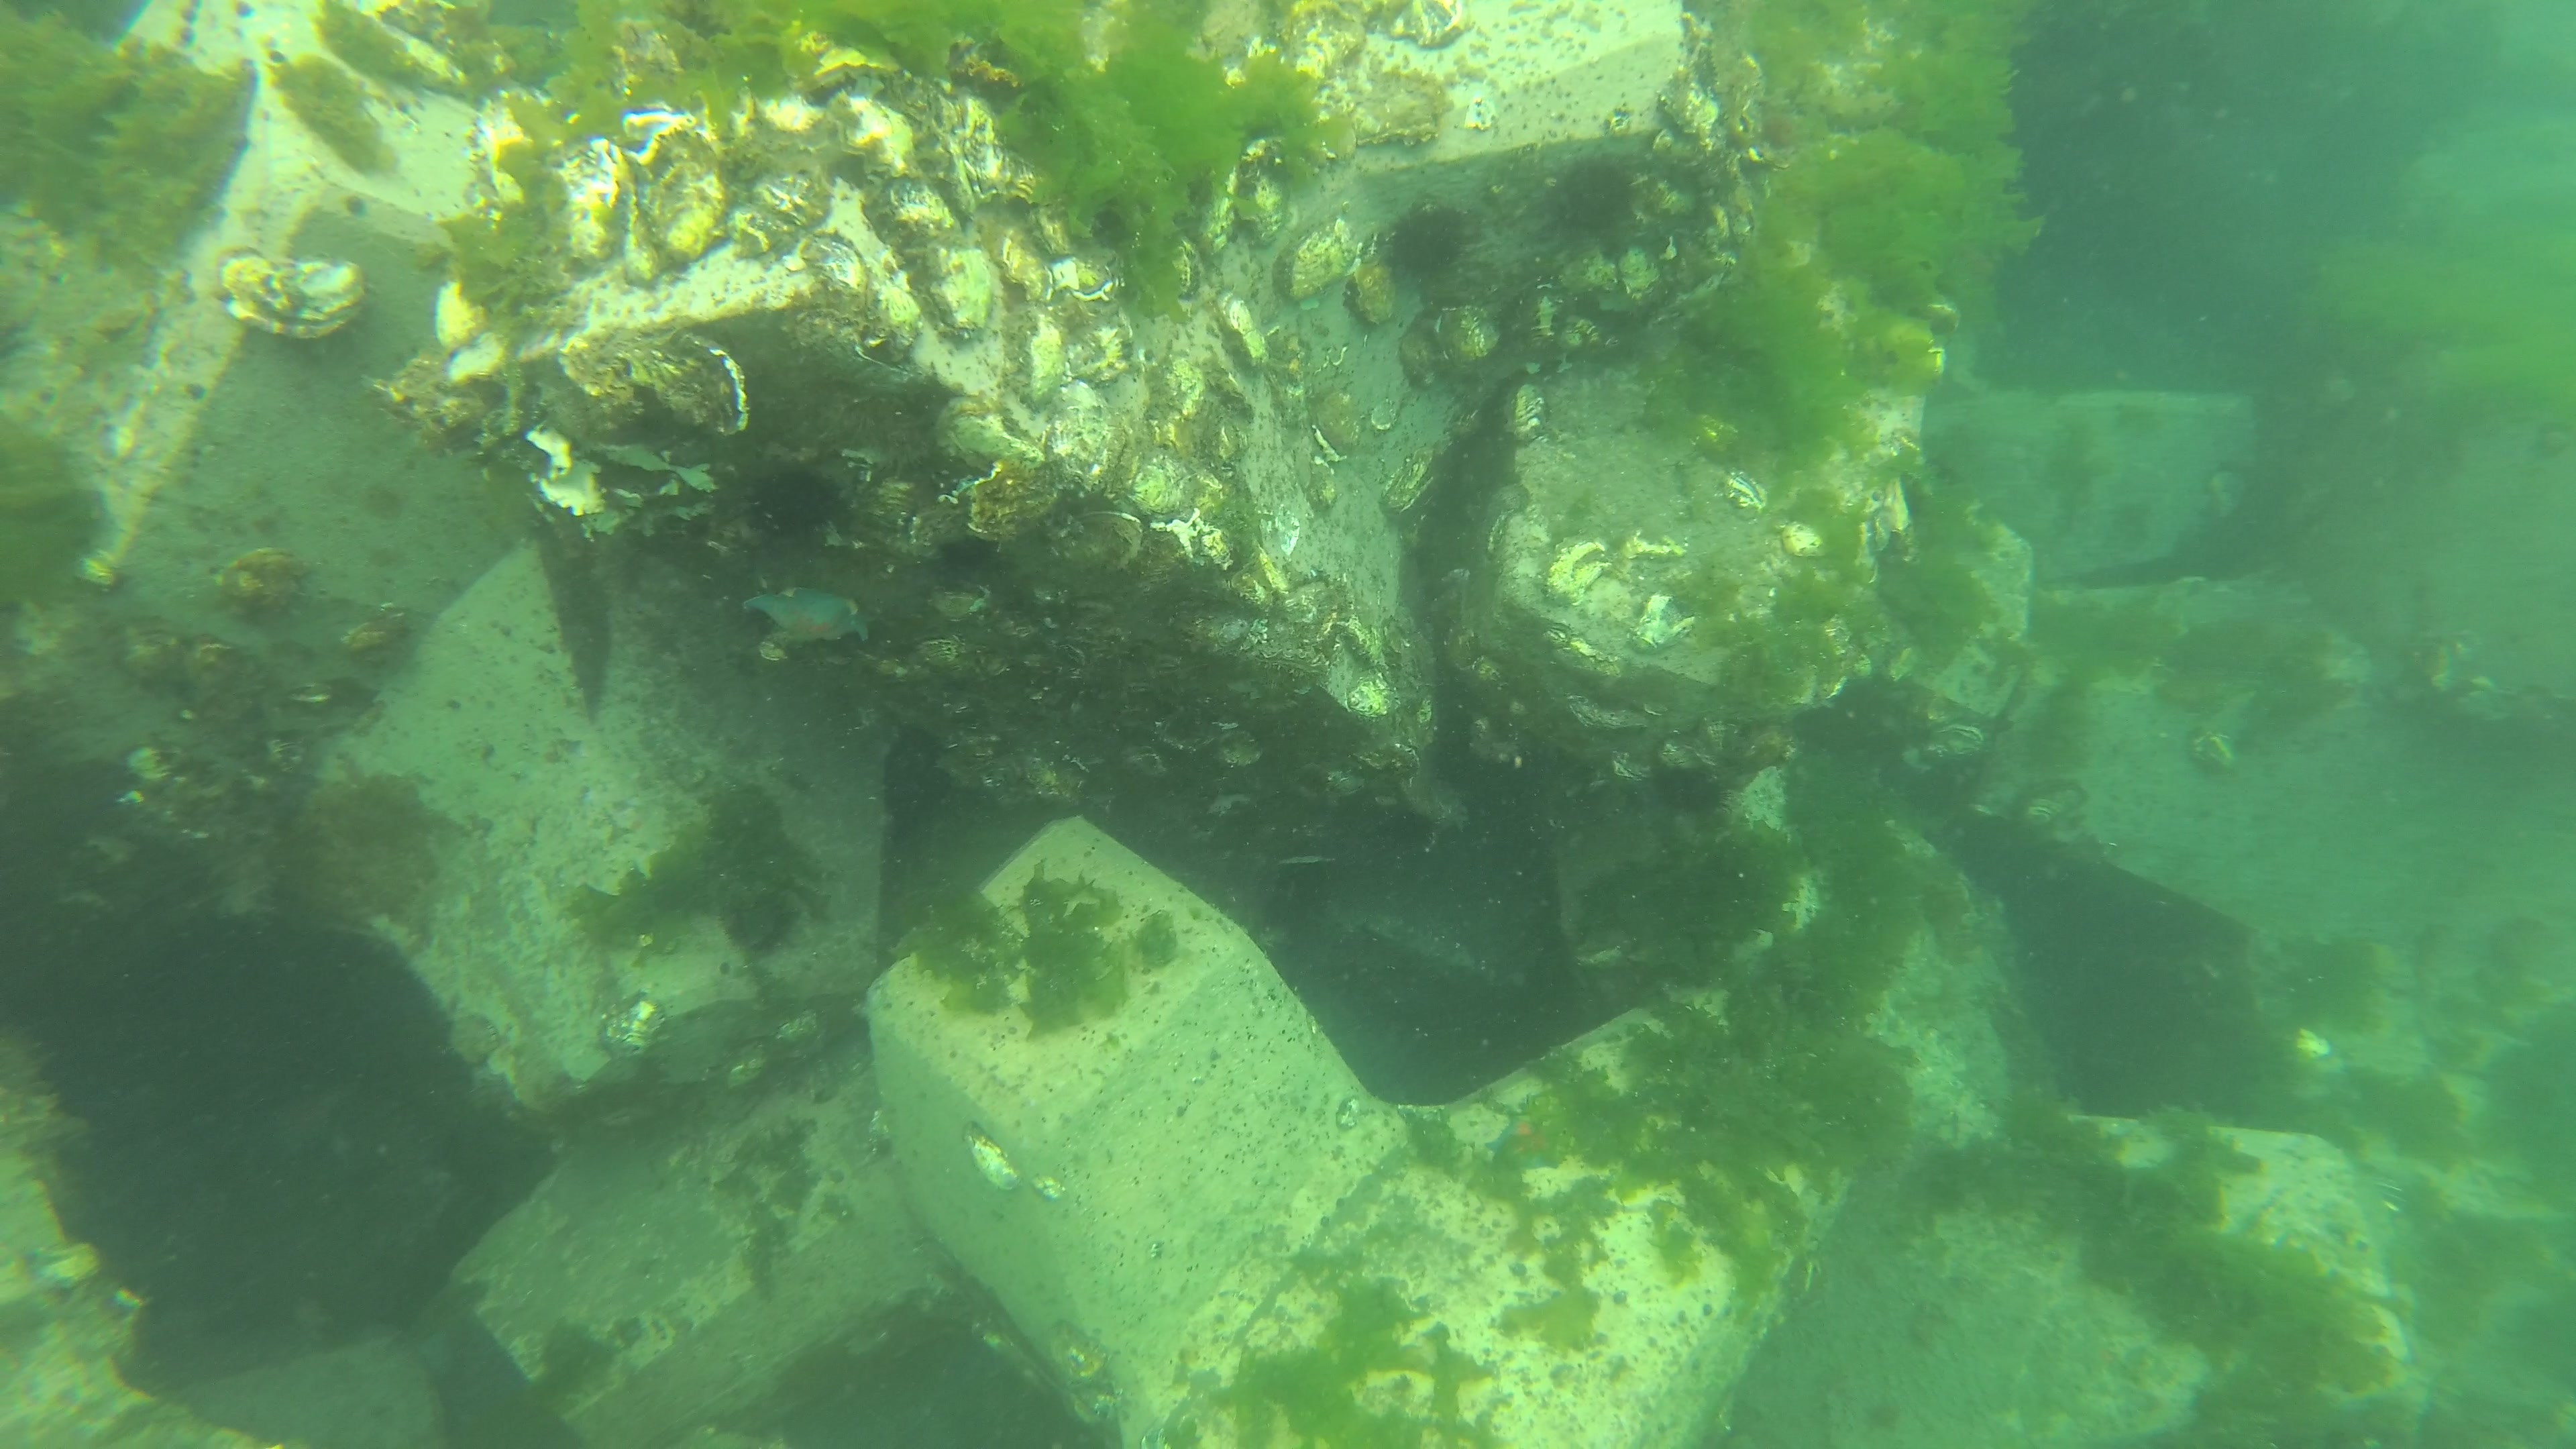echinus: (747, 469, 844, 540), (1385, 200, 1465, 278), (1562, 154, 1635, 234), (717, 890, 800, 955), (1677, 771, 1732, 816), (939, 536, 996, 570)
starfish: (740, 586, 872, 646)
